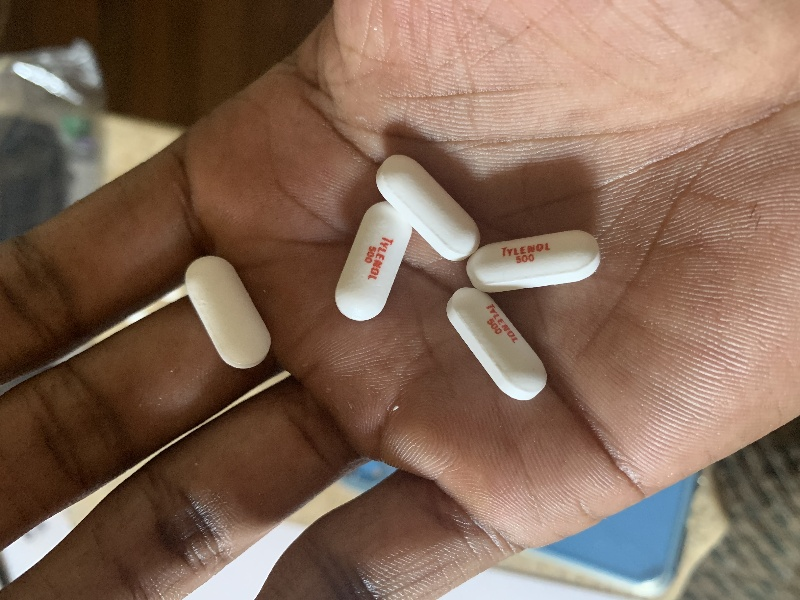Tylenol: (371, 154, 486, 263), (444, 286, 552, 402), (181, 251, 277, 373), (332, 192, 415, 324), (461, 228, 606, 295)
